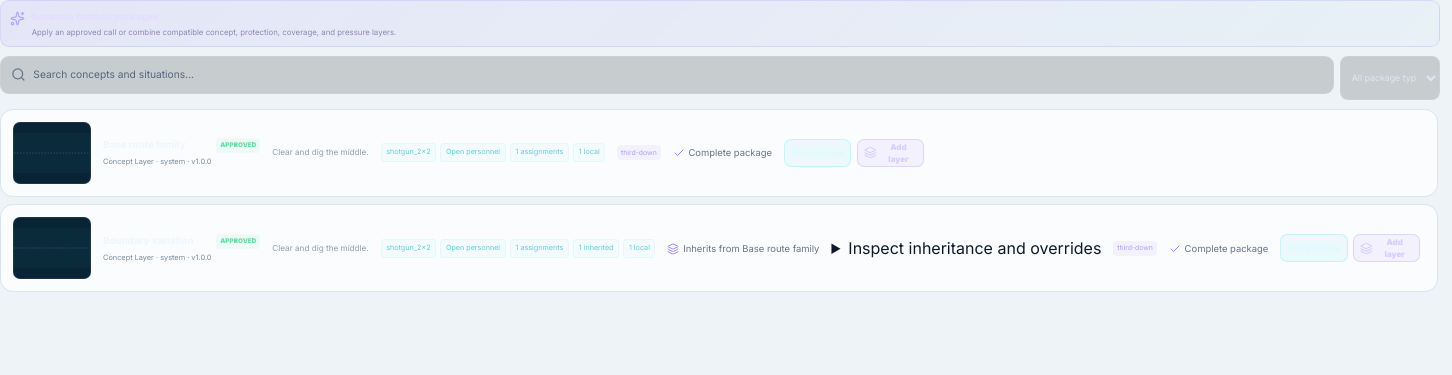
Test: TemplateLibraryPanel › explains inherited assignments and child field overrides before application
Step 1. Click the heading "Inspect inheritance and overrides" → (966, 248), box [831,236,1101,260]
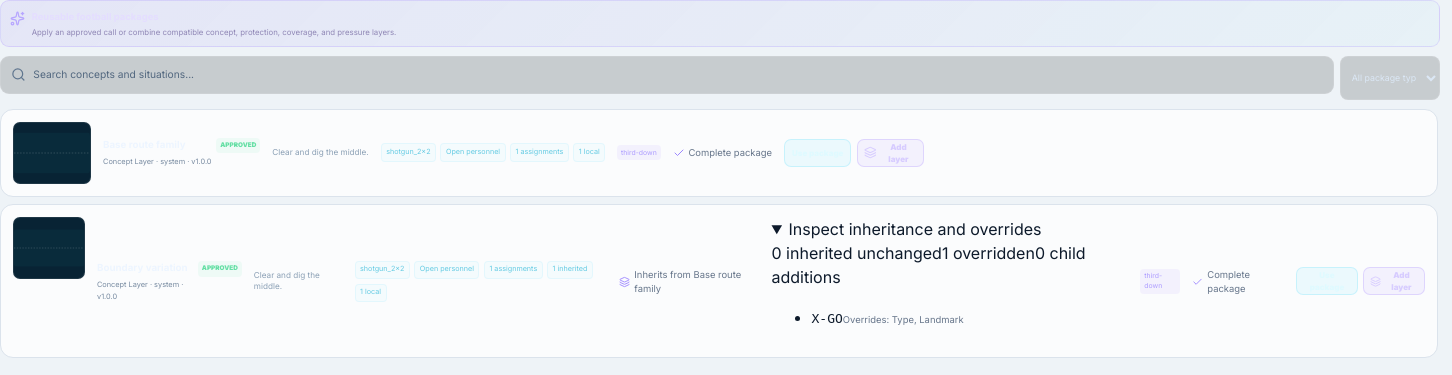
Now the text "1 overridden" is shown, box [942,243,1035,263]
Now the text "Overrides: Type, Landmark" is shown, box [843,314,964,325]
